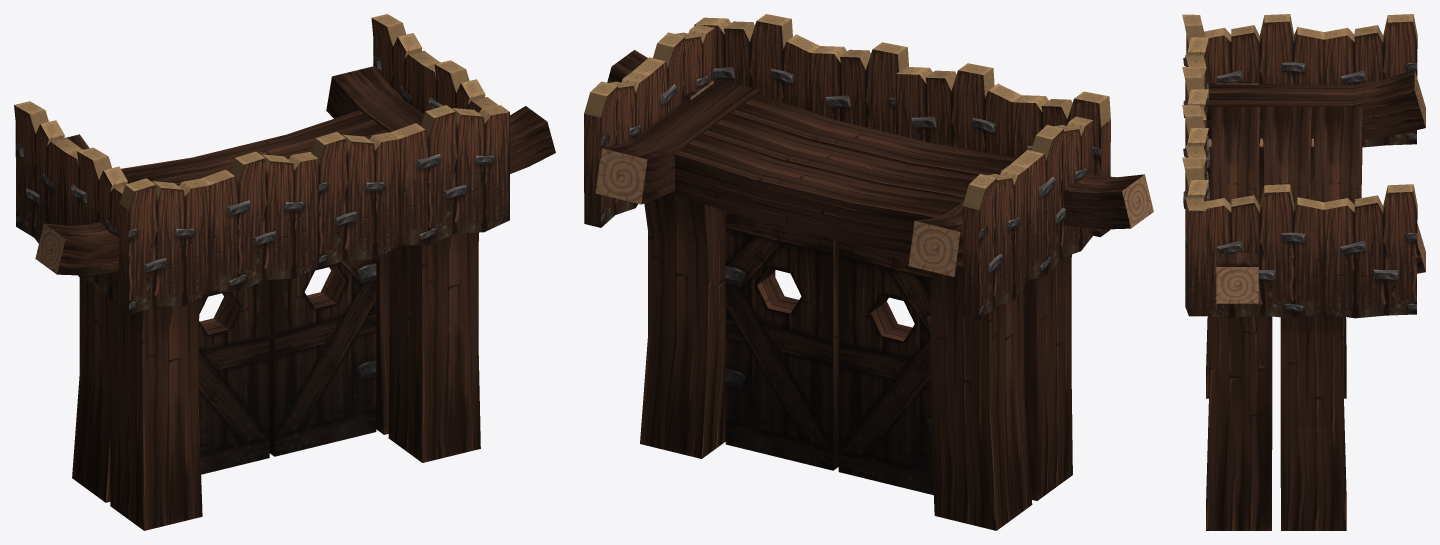
File: Door.FBX
3 views of the same model, side by side, from view 1: azimuth 30°, elevation 25°; view 2: azimuth 150°, elevation 25°; view 3: azimuth 270°, elevation 25° (orthographic). The views are drawn at different scales.
Parts seen in each view (by area): view 1: Door_Bunker, Door_tower, DoorR, DoorL; view 2: Door_tower, Door_Bunker, DoorR, DoorL; view 3: Door_tower, Door_Bunker.
Boxes of the visible parts, <box> form: Door_Bunker: <box>14,14,509,314</box>; Door_tower: <box>35,66,555,530</box>; DoorR: <box>269,259,376,456</box>; DoorL: <box>199,280,269,474</box>; Door_tower: <box>595,50,1153,530</box>; Door_Bunker: <box>584,14,1110,320</box>; DoorR: <box>725,211,838,470</box>; DoorL: <box>838,240,933,494</box>; Door_tower: <box>1206,70,1425,530</box>; Door_Bunker: <box>1182,14,1417,318</box>.
Size of the model in its own units: 119 by 80.87 by 51.74.
